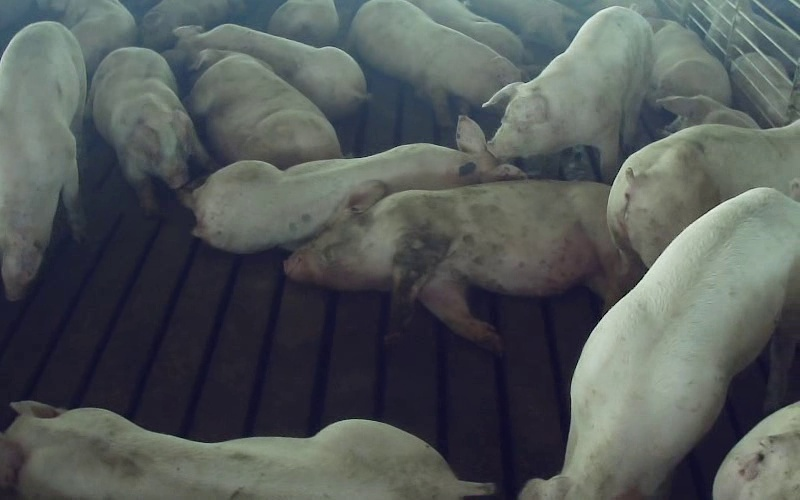pig: (522, 188, 799, 499), (183, 116, 523, 252), (484, 6, 652, 182), (607, 120, 799, 266), (0, 21, 85, 300), (348, 0, 520, 126), (90, 47, 207, 213), (164, 24, 366, 119), (189, 49, 341, 168), (648, 19, 731, 105)
